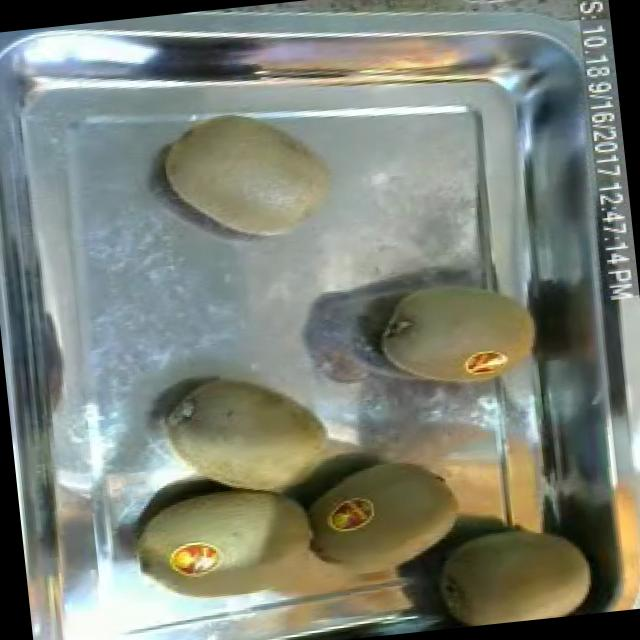Fruit: (117, 456, 348, 640), (146, 354, 352, 522), (146, 93, 351, 258), (413, 496, 615, 630), (363, 258, 546, 402)
